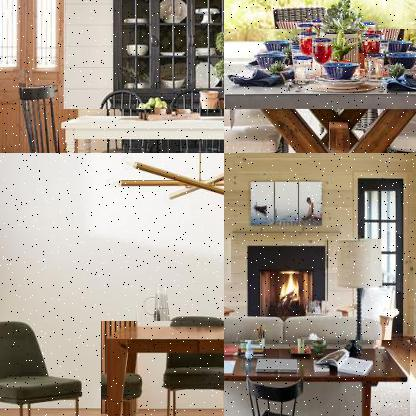table: (224, 29, 415, 152), (224, 340, 411, 415), (101, 321, 223, 415), (57, 109, 223, 152)
